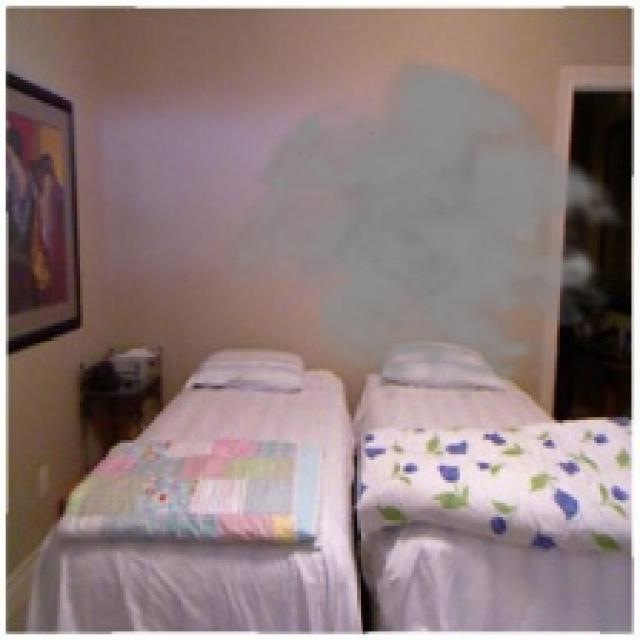smoke: (214, 54, 637, 403)
